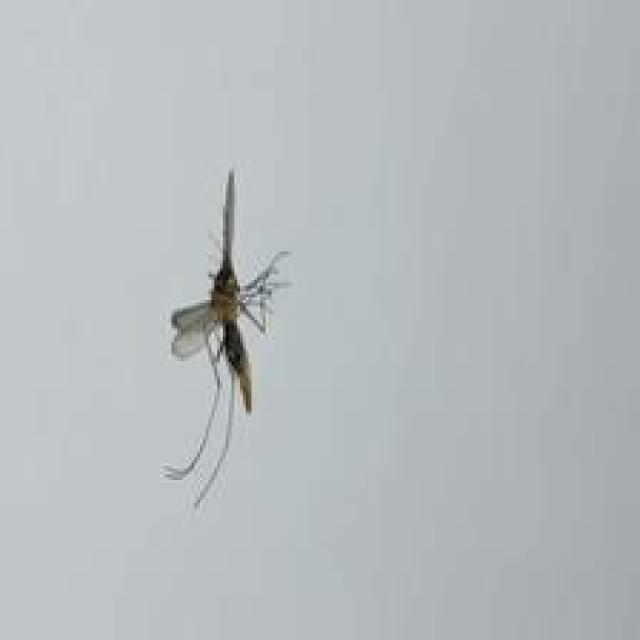Culex: (160, 167, 294, 507)
